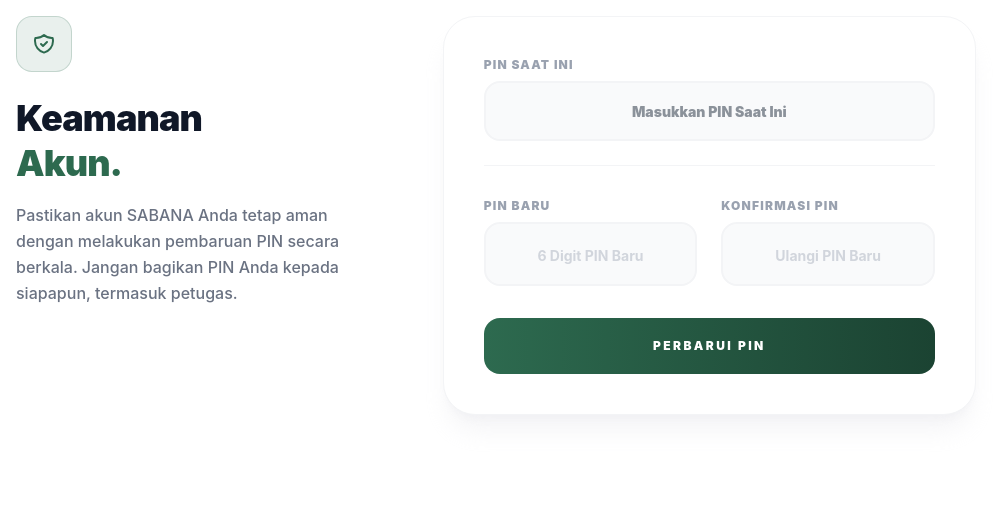
Security.vue - Professional QA Test Suite › Error Handling › [ERR-01] Error 400: PIN saat ini tidak valid
In the password field with id "input-current-pin": (709, 111) [484,81,935,141], type "111111"
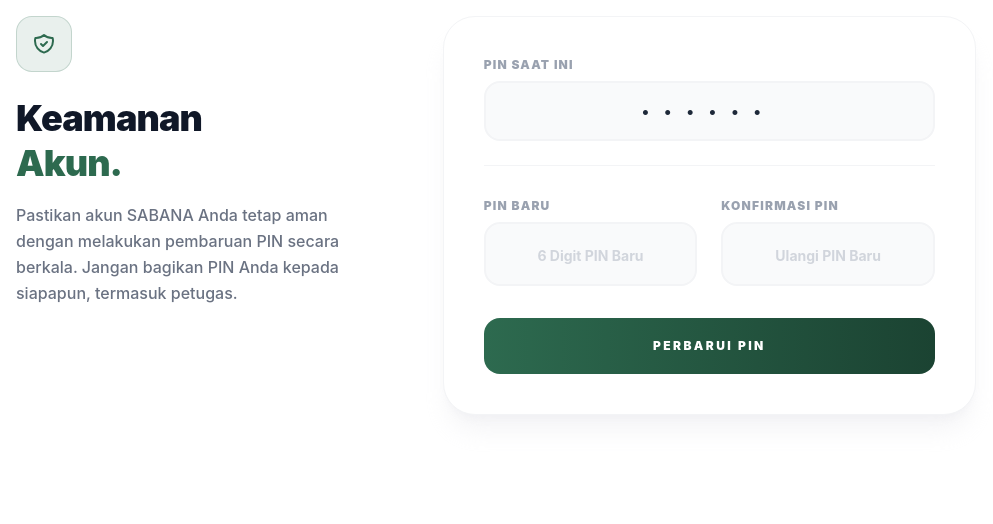
In the password field with id "input-new-pin": (591, 254) [484,222,697,286], type "222222"
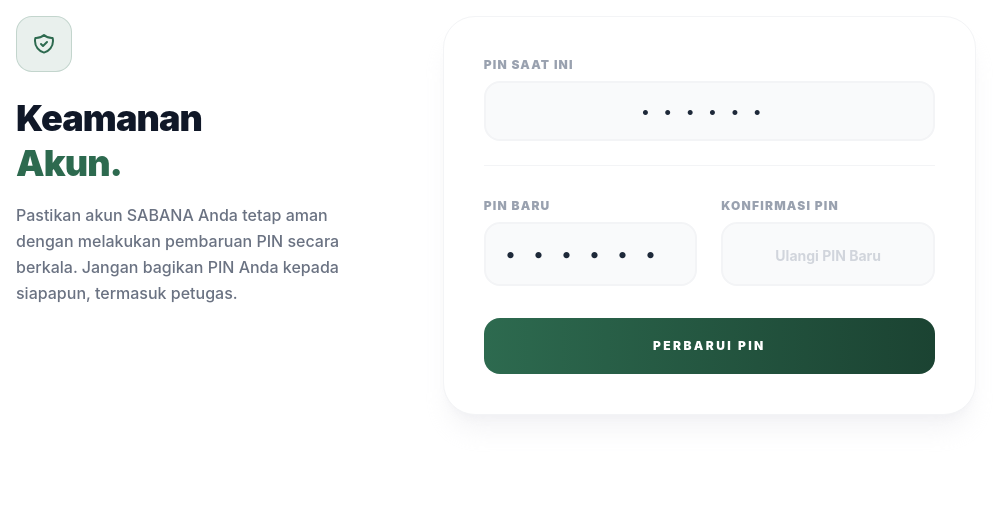
In the password field with id "input-confirm-pin": (828, 254) [721,222,935,286], type "222222"
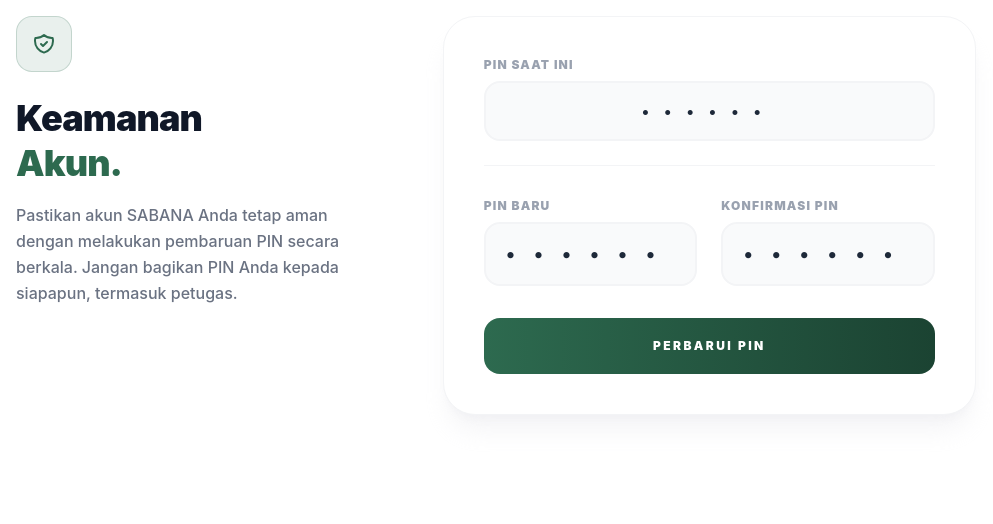
Submit the form, box [484,57,935,374]
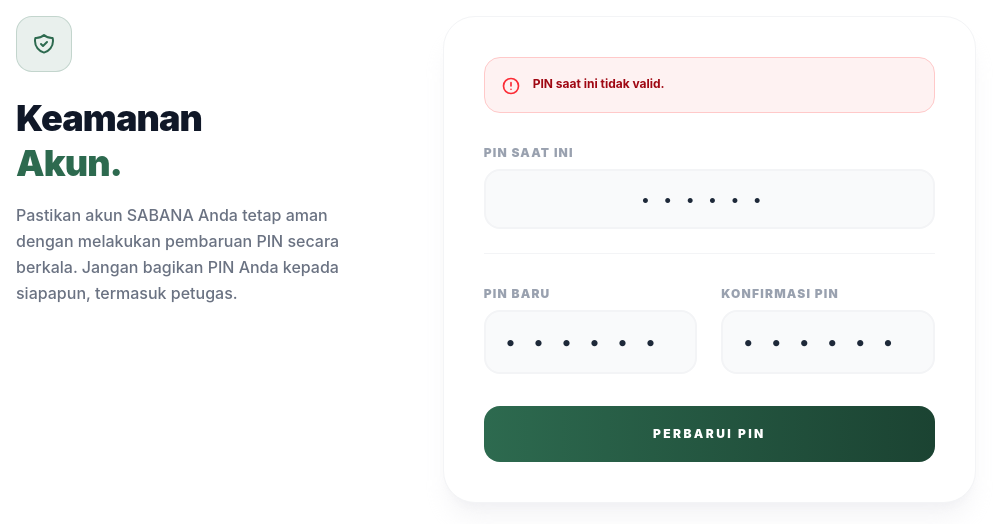
Expected: the text "PIN saat ini tidak valid." is shown, [533,74,665,94]
Expected: the element showing "PIN saat ini tidak valid." is shown, [484,57,935,113]
